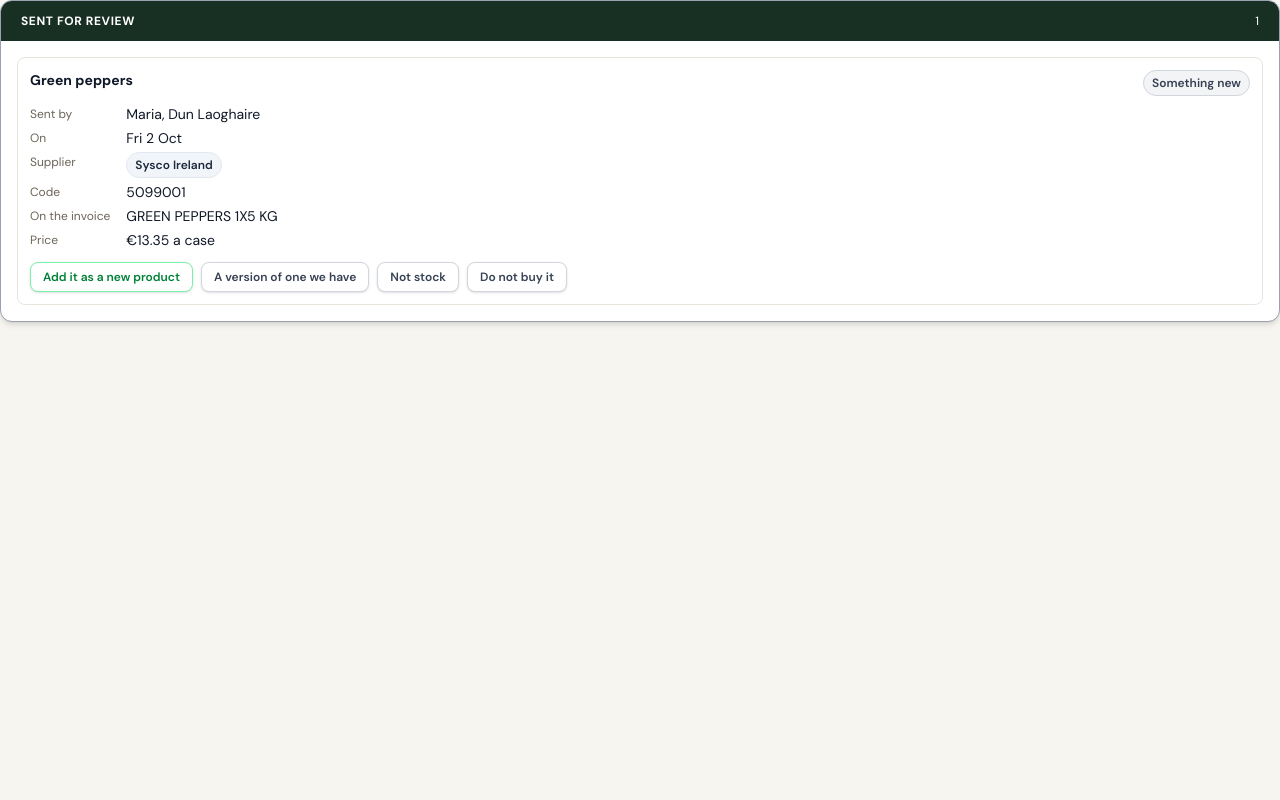
Test: A version of one we have › shows the suggestions above the search, with the picture
What coordinates should you click on to do the following:
click the button "A version of one we have"
I would click on:
 (285, 277)
Its box is x1=201 y1=262 x2=369 y2=292.
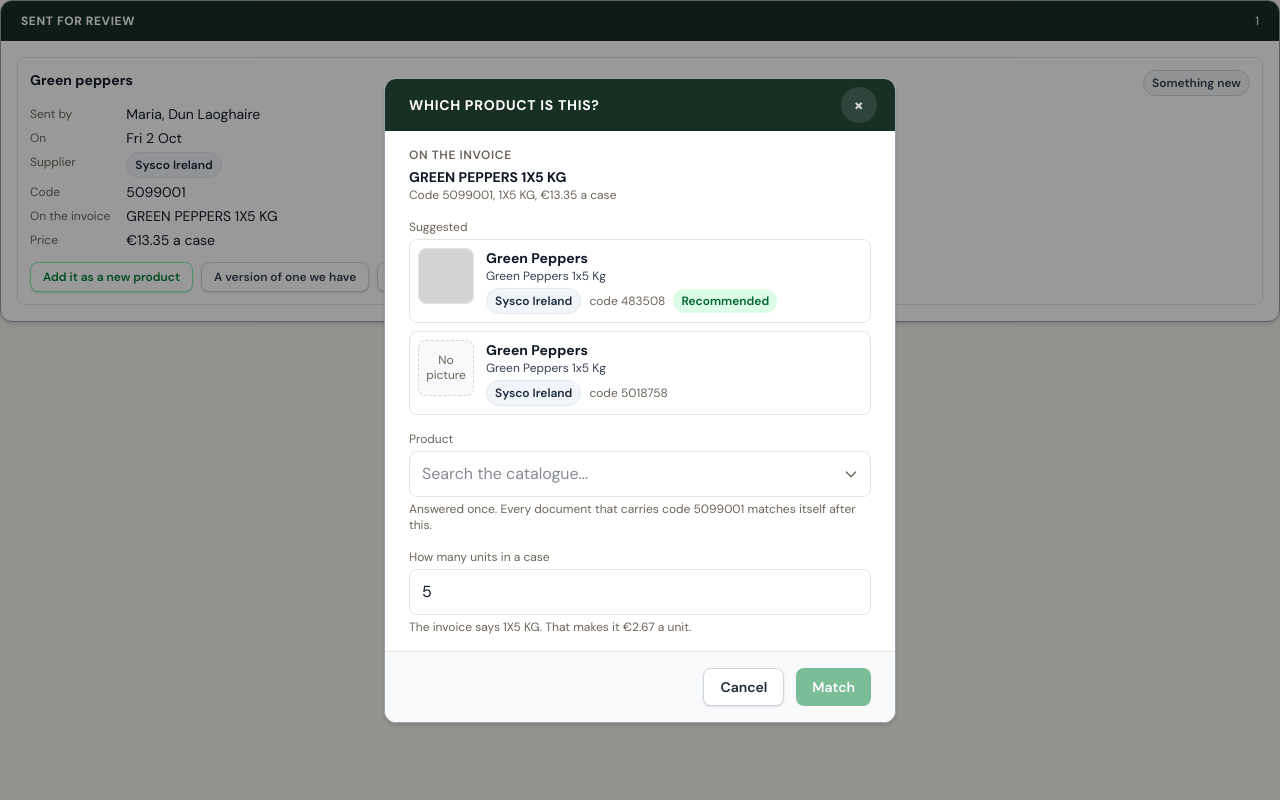
Expected: the button that starts with "No picture" shows "code 5018758", x1=409 y1=330 x2=871 y2=414
